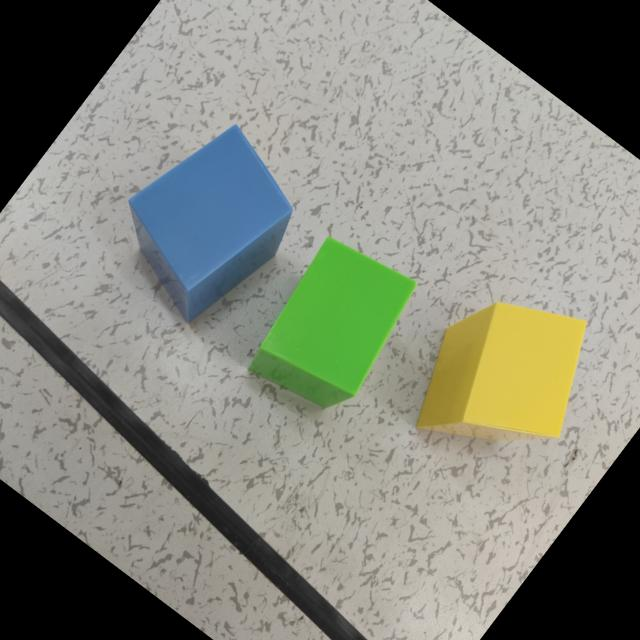blue: (127, 127, 292, 324)
green: (248, 236, 416, 410)
yellow: (415, 303, 587, 442)
